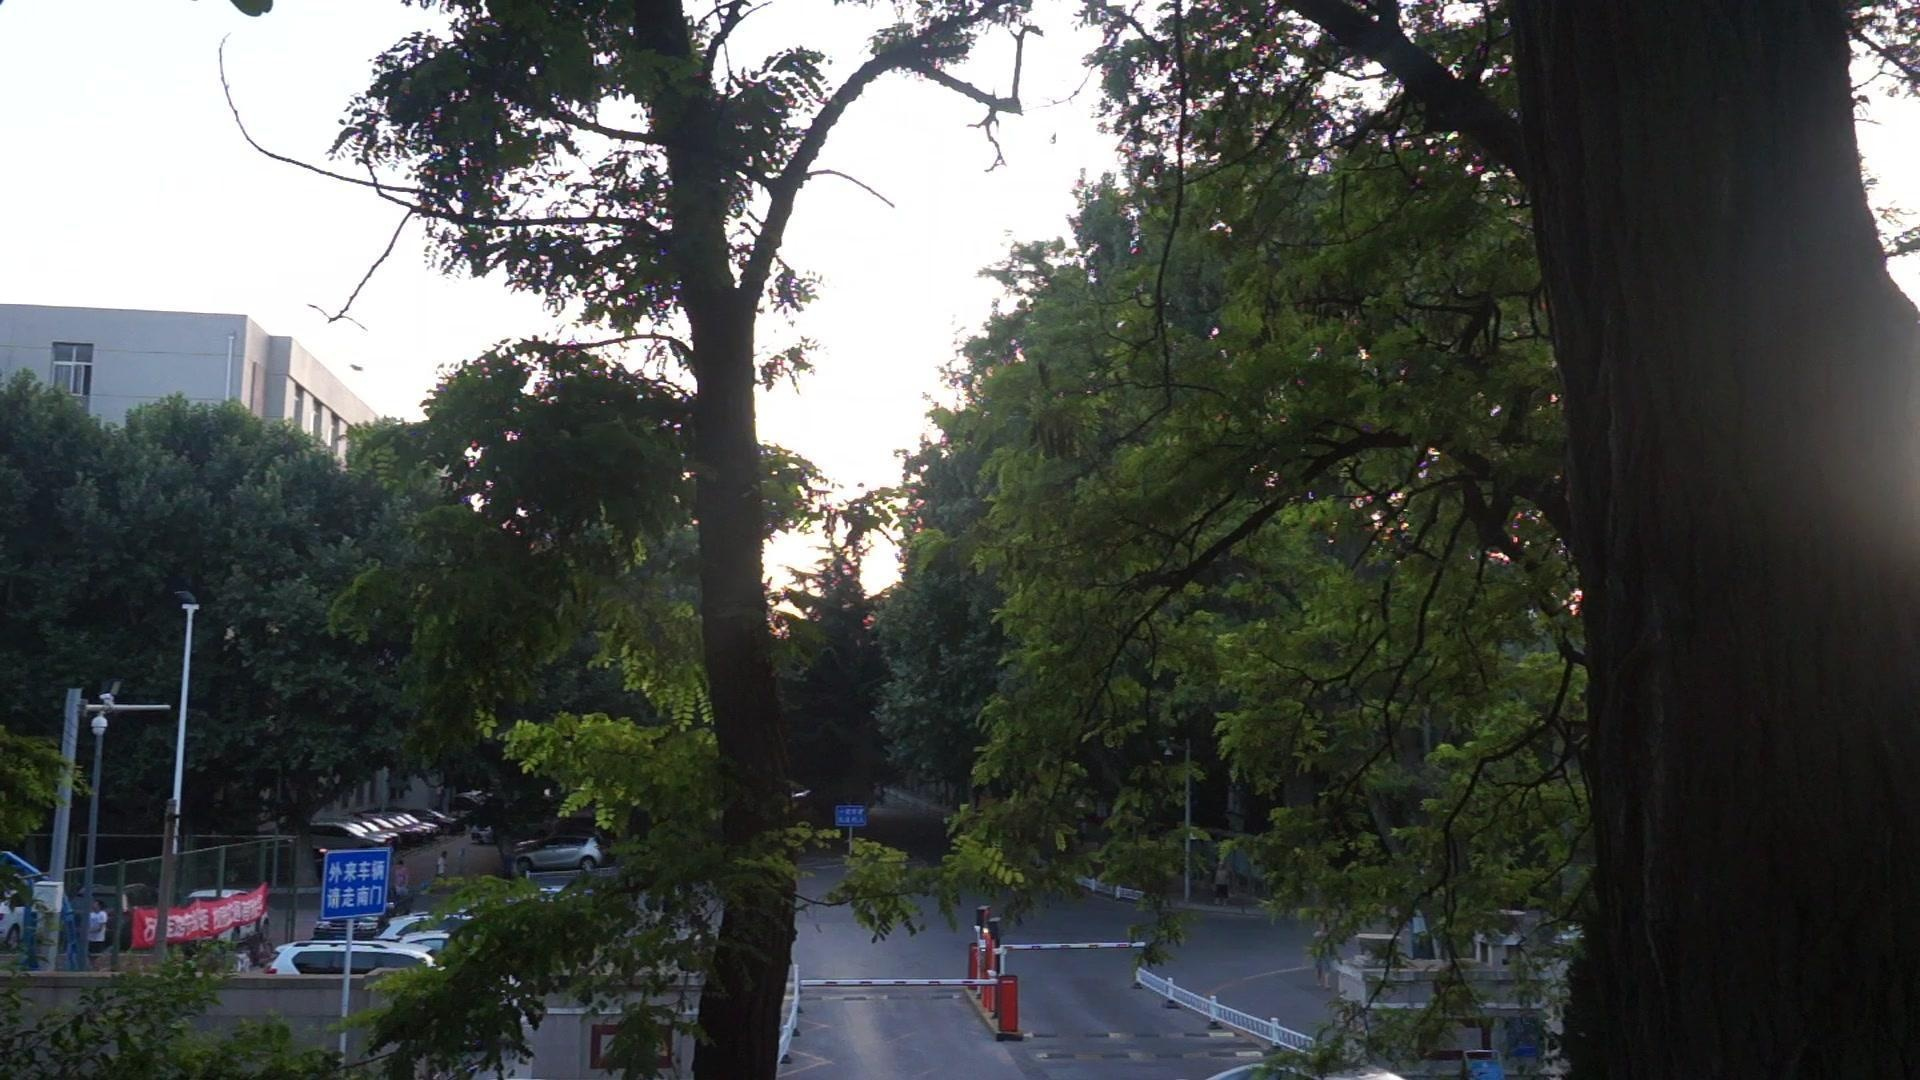UAV: (349, 364, 364, 372)
